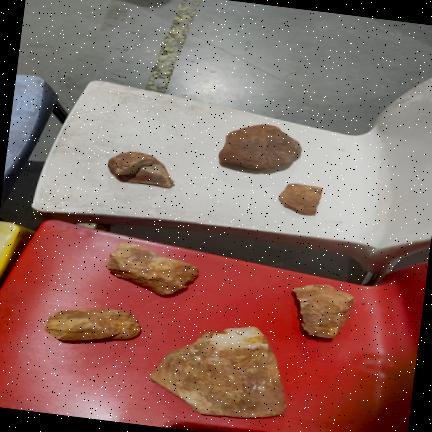Rocks: (150, 328, 286, 418), (108, 243, 198, 296), (219, 125, 301, 170), (293, 285, 354, 338), (44, 310, 140, 341), (108, 152, 173, 188), (279, 184, 322, 215)
